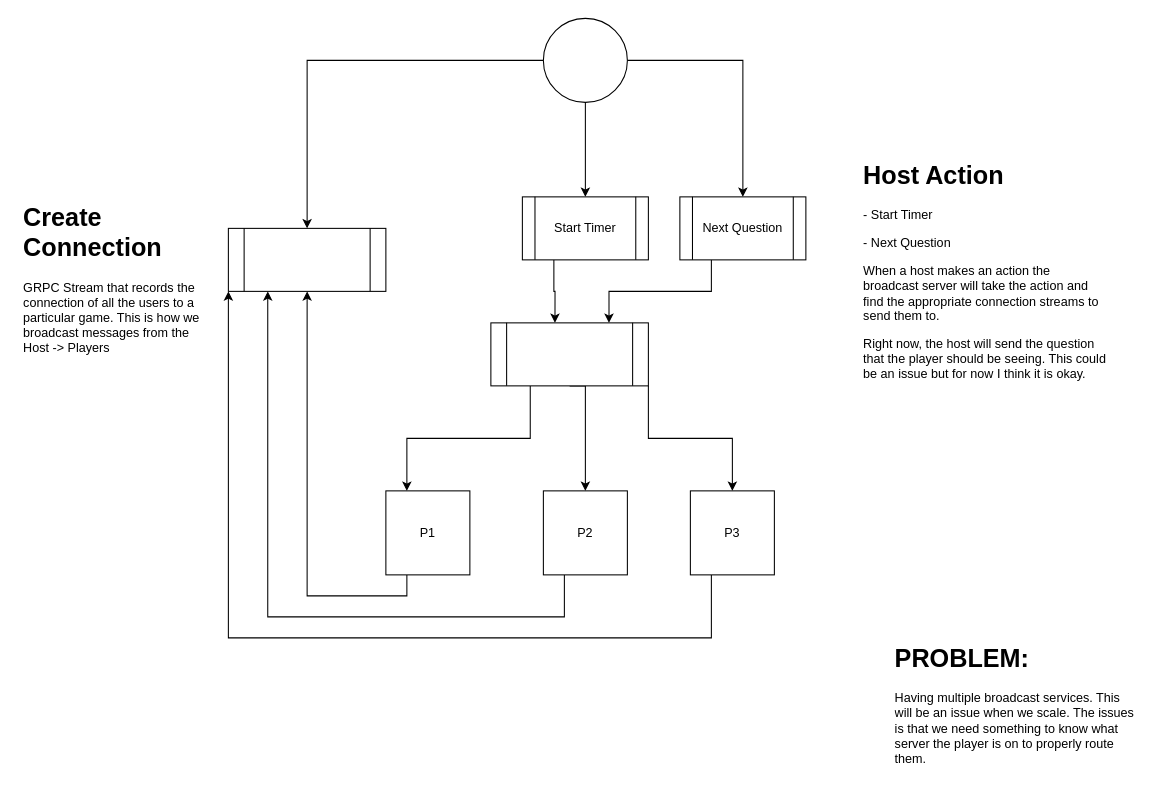
Some shapes in this 1159 by 803 pixel diagram are drawn without their labels. The box of each missing label's shape, as (x1, y1, x2, y2) in pixels:
Connection Pool: (490, 322, 648, 386)
CreateConnection: (227, 227, 386, 291)
HOST: (542, 17, 627, 102)
